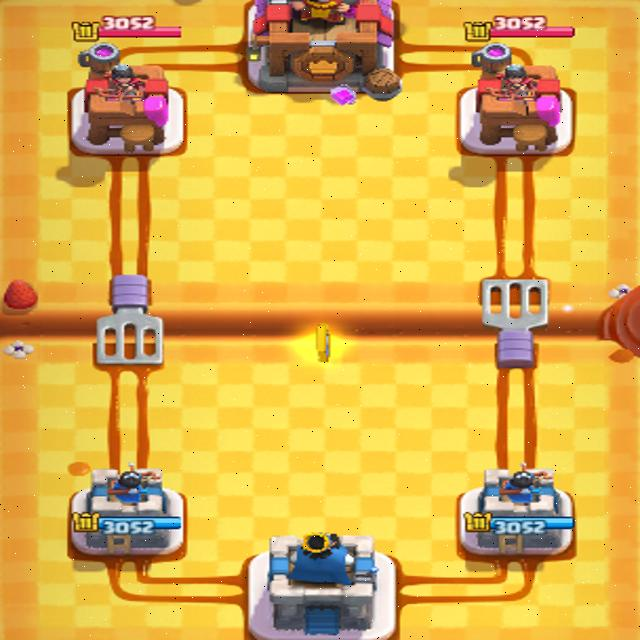EKingTower: (245, 8, 398, 93)
EnemyPrincessTower: (461, 42, 575, 156), (65, 41, 182, 147)
OwnKingTower: (247, 535, 397, 640)
OwnPrincessTower: (70, 470, 185, 556), (460, 486, 576, 564)
